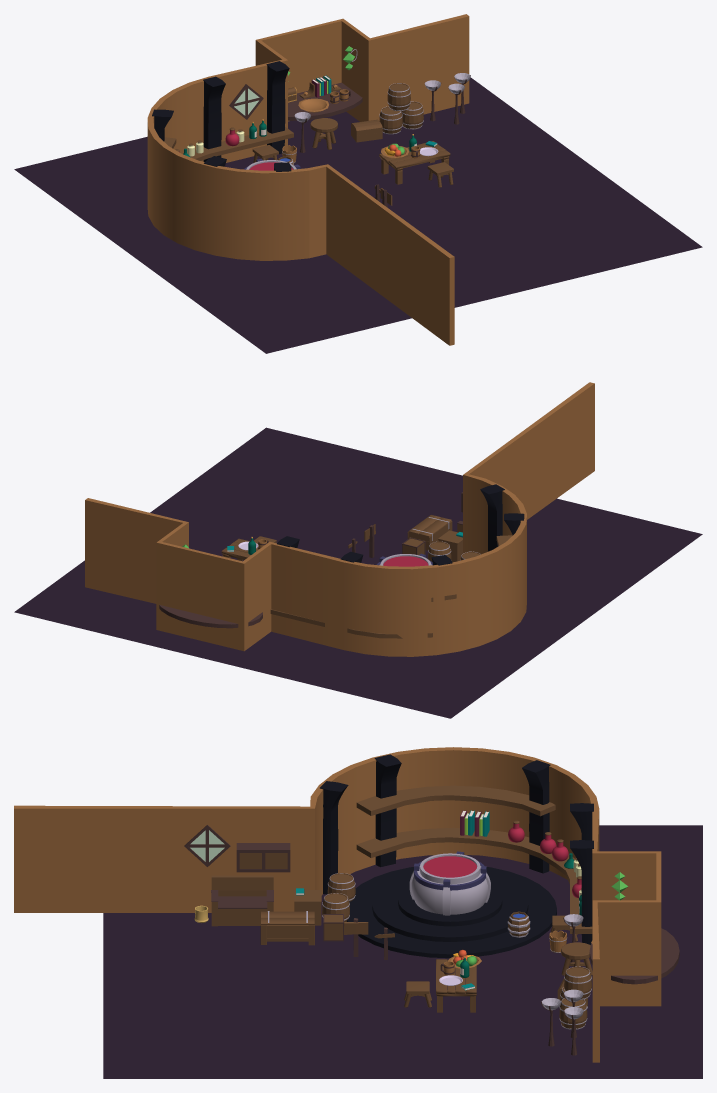
File: atelier.glb
3 views of the same model, one above another, from view 1: azimuth 30°, elevation 25°; view 2: azimuth 150°, elevation 25°; view 3: azimuth 270°, elevation 25° (orthographic). The views are drawn at different scales.
Visible parts, largest first — view 1: floor, walls, pillar.001, pillar.002, shelf, table, Cube.001, window.001, bench.002, barrel.004, barrel.002, books.001; view 2: floor, walls, pillar.005, table, shelf, chest_top; view 3: floor, walls, cauldron.base, shelf, bench.001, cauldron.pot, pillar.004, pillar.003, pillar.005, shelf.001, pillar.001, table (+15 smaller).
Part boxes in pixels (x1,y1,x2,y2): floor: [14, 77, 702, 353]; walls: [147, 14, 469, 345]; pillar.001: [266, 61, 289, 154]; pillar.002: [203, 76, 225, 162]; shelf: [164, 127, 293, 160]; table: [288, 82, 362, 120]; Cube.001: [379, 141, 450, 184]; window.001: [229, 84, 263, 119]; bench.002: [310, 118, 337, 149]; barrel.004: [387, 83, 410, 110]; barrel.002: [379, 106, 402, 134]; books.001: [299, 75, 341, 98]; floor: [14, 427, 702, 718]; walls: [85, 382, 594, 656]; pillar.005: [480, 484, 504, 551]; table: [159, 605, 262, 628]; shelf: [270, 535, 512, 638]; chest_top: [408, 515, 451, 537]; floor: [103, 825, 702, 1078]; walls: [14, 747, 661, 1062]; cauldron.base: [347, 867, 556, 958]; shelf: [356, 785, 592, 933]; bench.001: [211, 875, 273, 926]; cauldron.pot: [409, 866, 490, 915]; pillar.004: [374, 754, 401, 867]; pillar.003: [522, 760, 550, 873]; pillar.005: [320, 781, 348, 894]; shelf.001: [236, 843, 290, 872]; pillar.001: [570, 840, 593, 944]; table: [589, 928, 679, 984].
Bounding box in the file's own units: 36.54 × 7.34 × 41.99.
1 material, 1 textured.
